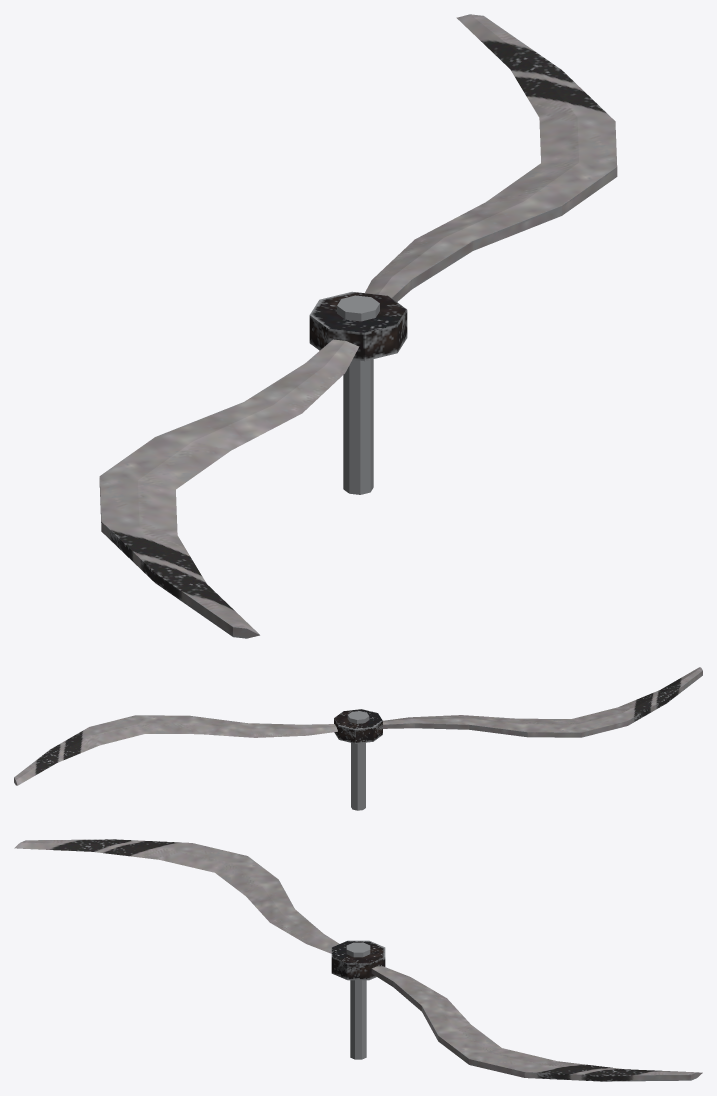
Rendered from propeller_s_3.fbx.
3 views of the same model, one above another, from view 1: azimuth 30°, elevation 25°; view 2: azimuth 150°, elevation 25°; view 3: azimuth 270°, elevation 25° (orthographic). The views are drawn at different scales.
Visible parts, largest first — view 1: propeller_s_3; view 2: propeller_s_3; view 3: propeller_s_3.
Boxes of the visible parts, x1,y1,x2,y2 form: propeller_s_3: [99, 14, 617, 638]; propeller_s_3: [14, 667, 702, 810]; propeller_s_3: [14, 839, 702, 1081].
Size of the model in its own units: 8.61 by 1.85 by 10.61.
